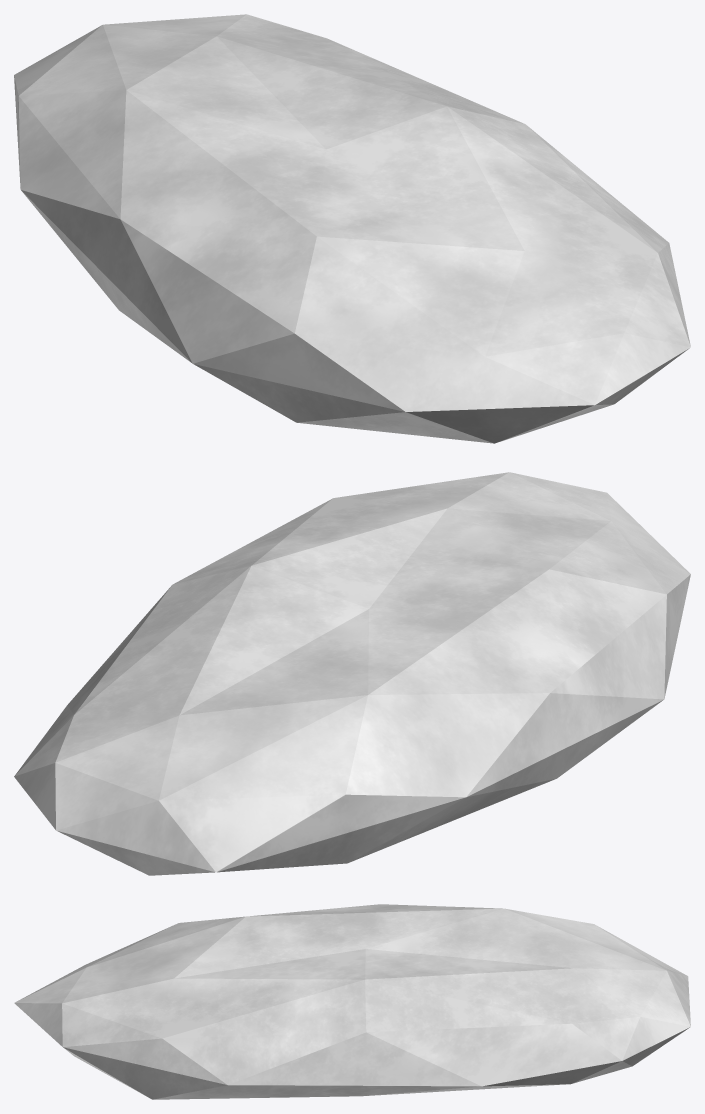
File: Cloud.fbx
3 renders of one model, top to bottom at view 1: azimuth 30°, elevation 25°; view 2: azimuth 150°, elevation 25°; view 3: azimuth 270°, elevation 25°, orthographic. The views are drawn at different scales.
Parts seen in each view (by area): view 1: cloud1; view 2: cloud1; view 3: cloud1.
Part boxes in pixels (left/top/right/bottom): cloud1: left=14, top=14, right=690, bottom=443; cloud1: left=14, top=472, right=690, bottom=875; cloud1: left=14, top=904, right=690, bottom=1099.
Bounding box in the file's own units: 537 × 205 × 994.
